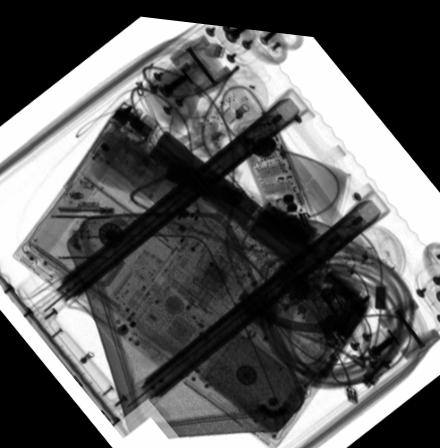Baton: (147, 126, 318, 258)
